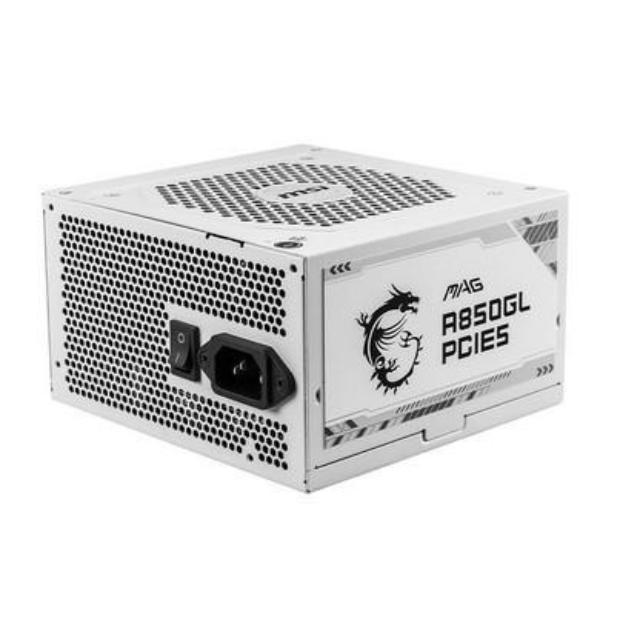PSU: (32, 128, 600, 494)
